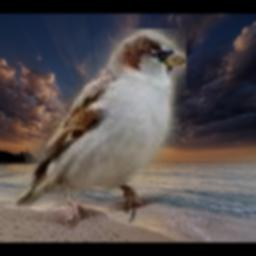Sparrow: (0, 29, 187, 229)
